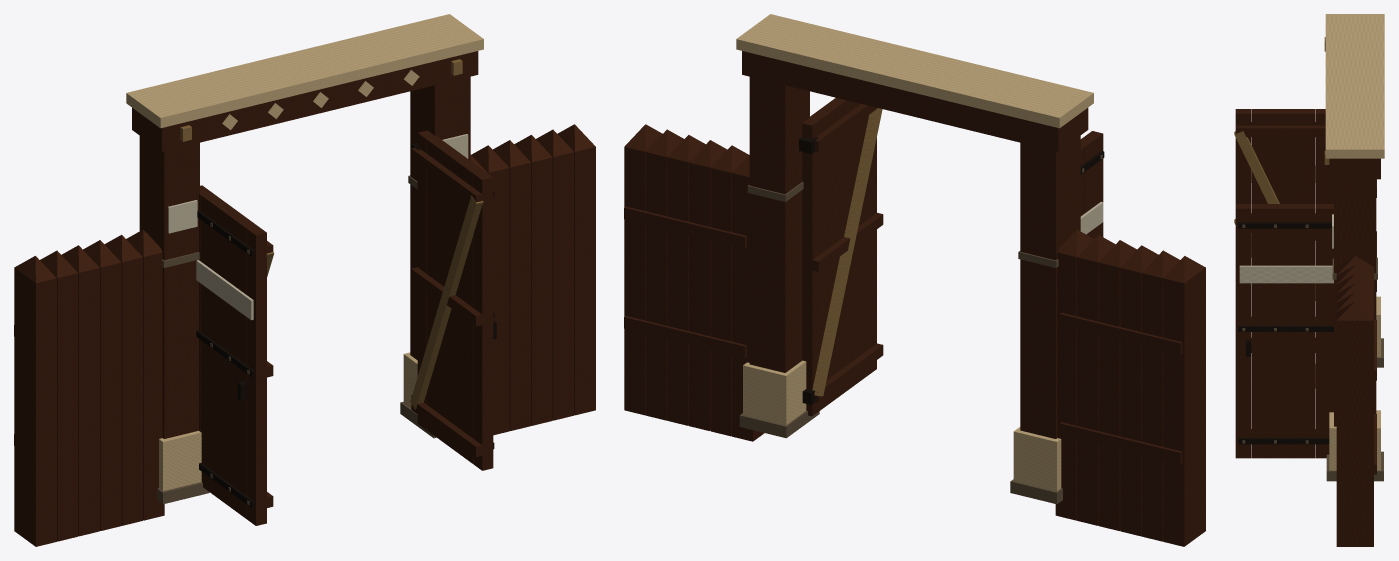
Rendered from Berber_PalisadeGate_Age3_Open.fbx.
3 views of the same model, side by side, from view 1: azimuth 30°, elevation 25°; view 2: azimuth 150°, elevation 25°; view 3: azimuth 270°, elevation 25° (orthographic). The views are drawn at different scales.
Parts seen in each view (by area): view 1: lintel_earth_weather_cap, left_palisade_stake_5, left_palm_gatepost, mortised_palm_lintel, right_palisade_stake_2, right_palisade_stake_4, left_palisade_stake_1, left_palisade_stake_3, right_palisade_stake_3, left_palisade_stake_2, left_palisade_stake_4, right_palisade_stake_5 (+23 smaller); view 2: right_palm_gatepost, lintel_earth_weather_cap, left_palm_gatepost, left_palisade_stake_5, mortised_palm_lintel, left_palisade_stake_2, right_palisade_stake_4, left_palisade_stake_4, left_palisade_stake_1, right_palisade_stake_5, left_palisade_stake_3, right_palisade_stake_1 (+25 smaller); view 3: right_palisade_stake_5, lintel_earth_weather_cap, right_palm_gatepost, right_door_plank_6, right_door_plank_3, right_door_plank_4, right_door_plank_5, right_door_plank_2, right_door_plank_1, right_owner_leaf_stripe, left_door_plank_3, left_door_plank_2 (+19 smaller).
Boxes of the visible parts, bbox=[...] form: lintel_earth_weather_cap: bbox=[126, 14, 483, 128]; left_palisade_stake_5: bbox=[14, 256, 56, 546]; left_palm_gatepost: bbox=[139, 136, 199, 438]; mortised_palm_lintel: bbox=[132, 51, 478, 151]; right_palisade_stake_2: bbox=[492, 140, 531, 430]; right_palisade_stake_4: bbox=[536, 129, 574, 420]; left_palisade_stake_1: bbox=[104, 234, 142, 525]; left_palisade_stake_3: bbox=[61, 245, 99, 536]; right_palisade_stake_3: bbox=[514, 135, 552, 425]; left_palisade_stake_2: bbox=[83, 240, 121, 530]; left_palisade_stake_4: bbox=[40, 250, 78, 541]; right_palisade_stake_5: bbox=[557, 124, 595, 415]; right_palm_gatepost: bbox=[749, 77, 809, 372]; lintel_earth_weather_cap: bbox=[736, 14, 1093, 128]; left_palm_gatepost: bbox=[1020, 135, 1080, 438]; left_palisade_stake_5: bbox=[1163, 256, 1205, 546]; mortised_palm_lintel: bbox=[742, 51, 1088, 151]; left_palisade_stake_2: bbox=[1098, 240, 1136, 530]; right_palisade_stake_4: bbox=[645, 129, 683, 420]; left_palisade_stake_4: bbox=[1141, 250, 1179, 541]; left_palisade_stake_1: bbox=[1077, 235, 1115, 525]; right_palisade_stake_5: bbox=[624, 124, 662, 415]; left_palisade_stake_3: bbox=[1120, 245, 1158, 536]; right_palisade_stake_1: bbox=[710, 145, 748, 436]; right_palisade_stake_5: bbox=[1336, 301, 1373, 546]; lintel_earth_weather_cap: bbox=[1325, 14, 1384, 158]; right_palm_gatepost: bbox=[1334, 179, 1376, 426]; right_door_plank_6: bbox=[1235, 204, 1251, 458]; right_door_plank_3: bbox=[1283, 204, 1299, 458]; right_door_plank_4: bbox=[1267, 204, 1283, 458]; right_door_plank_5: bbox=[1251, 204, 1267, 458]; right_door_plank_2: bbox=[1299, 204, 1314, 458]; right_door_plank_1: bbox=[1315, 204, 1330, 458]; right_owner_leaf_stripe: bbox=[1239, 265, 1333, 283]; left_door_plank_3: bbox=[1283, 109, 1299, 203]; left_door_plank_2: bbox=[1299, 109, 1314, 203].
Bounding box in the file's own units: 1018 × 703 × 275.
6 materials, 6 textured.
